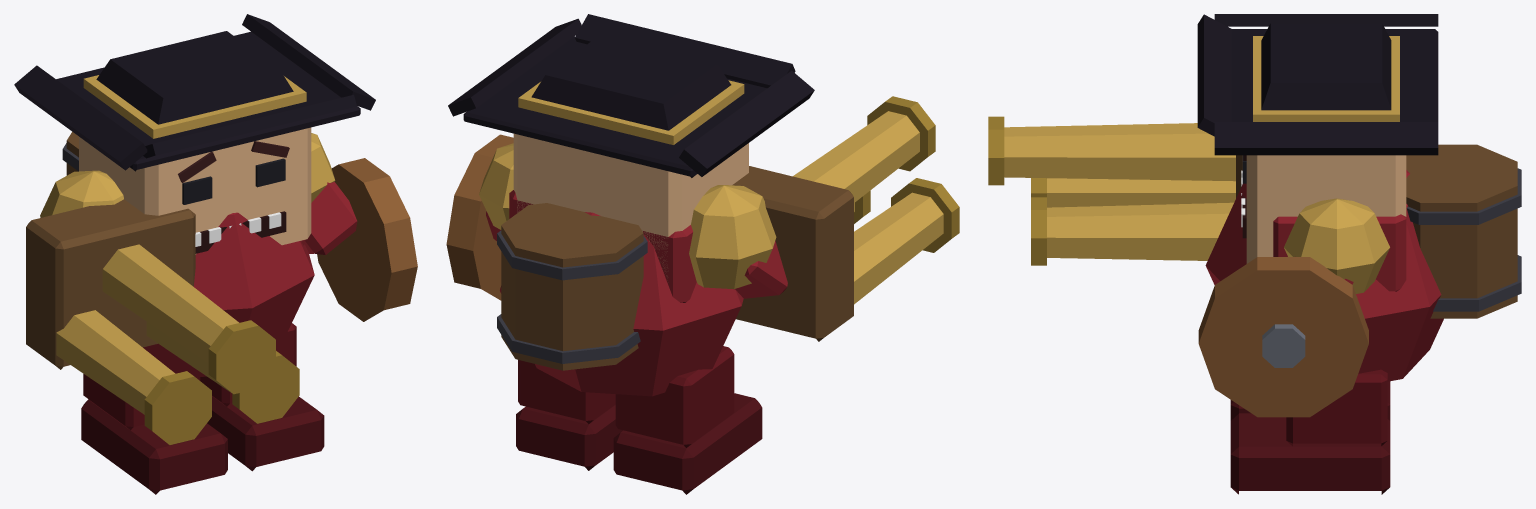
File: r13_mini_broadside_gunner.glb
3 renders of one model, left to right at view 1: azimuth 30°, elevation 25°; view 2: azimuth 150°, elevation 25°; view 3: azimuth 270°, elevation 25°, orthographic. The views are drawn at different scales.
Visible parts, largest first — view 1: r13_mini_broadside_gunner_mesh; view 2: r13_mini_broadside_gunner_mesh; view 3: r13_mini_broadside_gunner_mesh.
Boxes of the visible parts, left/top/right/bottom form: r13_mini_broadside_gunner_mesh: left=14, top=14, right=417, bottom=494; r13_mini_broadside_gunner_mesh: left=446, top=14, right=959, bottom=494; r13_mini_broadside_gunner_mesh: left=988, top=14, right=1521, bottom=494.
Size of the model in its own units: 3.7 by 3.8 by 4.59.
1 material, 1 textured.
